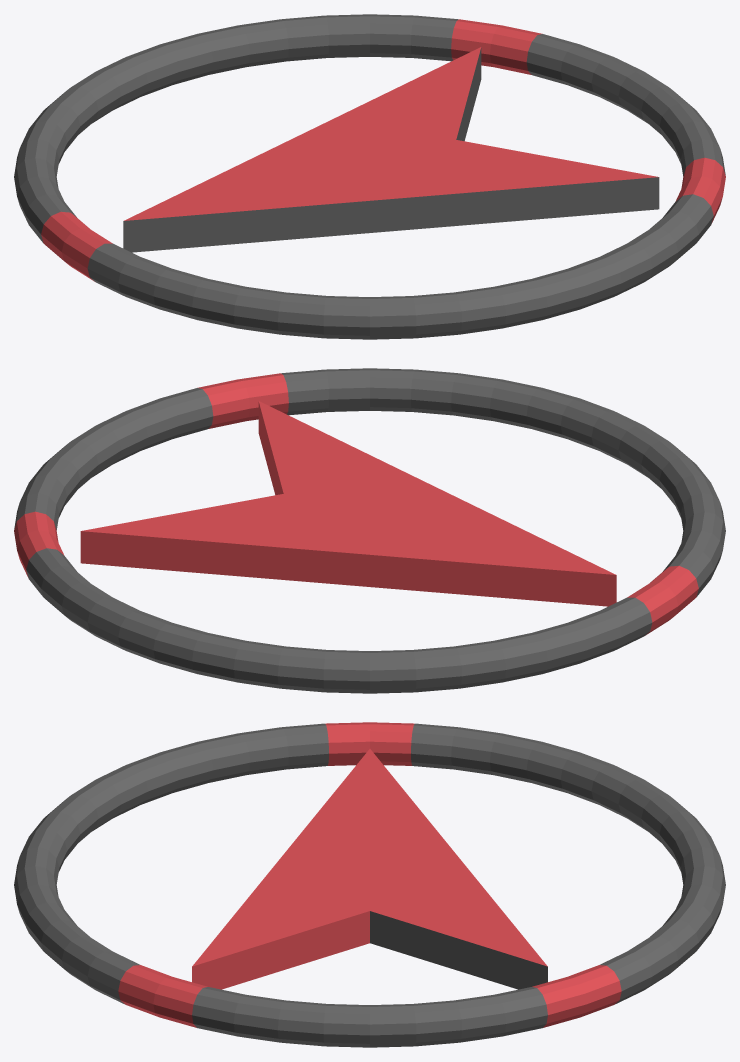
Rendered from quish.fbx.
3 renders of one model, top to bottom at view 1: azimuth 30°, elevation 25°; view 2: azimuth 150°, elevation 25°; view 3: azimuth 270°, elevation 25°, orthographic.
Parts seen in each view (by area): view 1: quish; view 2: quish; view 3: quish.
Part boxes in pixels (x1,y1,x2,y2): quish: (14, 14, 725, 339); quish: (14, 368, 725, 693); quish: (14, 722, 725, 1047).
Bounding box in the file's own units: 100 × 6 × 100.
